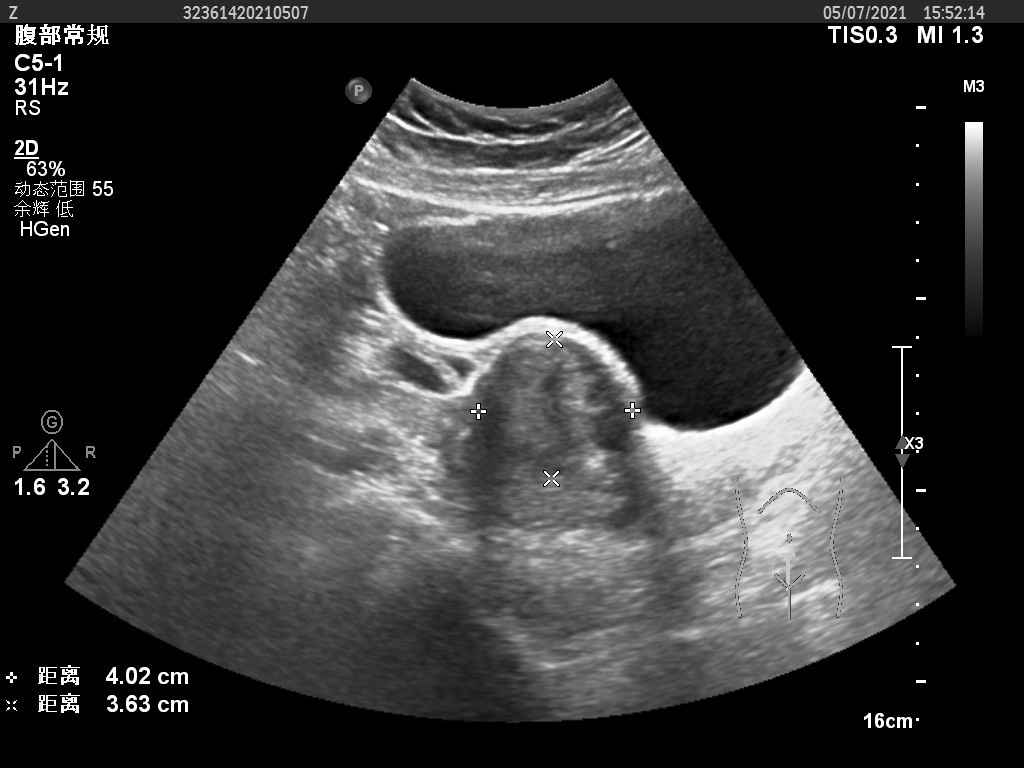肌瘤: (486, 350, 615, 471)
